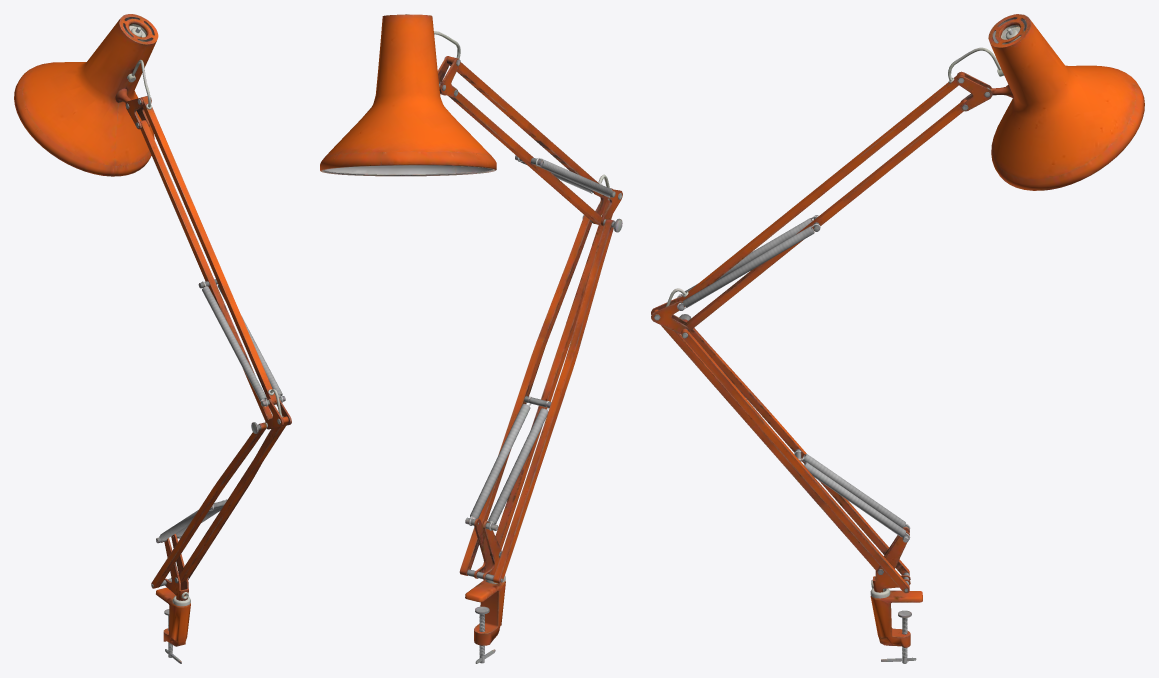
Rendered from desk_lamp_arm_01.glb.
3 views of the same model, side by side, from view 1: azimuth 30°, elevation 25°; view 2: azimuth 150°, elevation 25°; view 3: azimuth 270°, elevation 25° (orthographic). The views are drawn at different scales.
Parts seen in each view (by area): view 1: desk_lamp_arm_01; view 2: desk_lamp_arm_01; view 3: desk_lamp_arm_01.
Part boxes in pixels (x1,y1,x2,y2): desk_lamp_arm_01: (14, 14, 291, 663); desk_lamp_arm_01: (320, 14, 622, 663); desk_lamp_arm_01: (651, 14, 1144, 663).
Bounding box in the file's own units: 0.2018 × 0.8926 × 0.6139.
2 materials, 2 textured.
